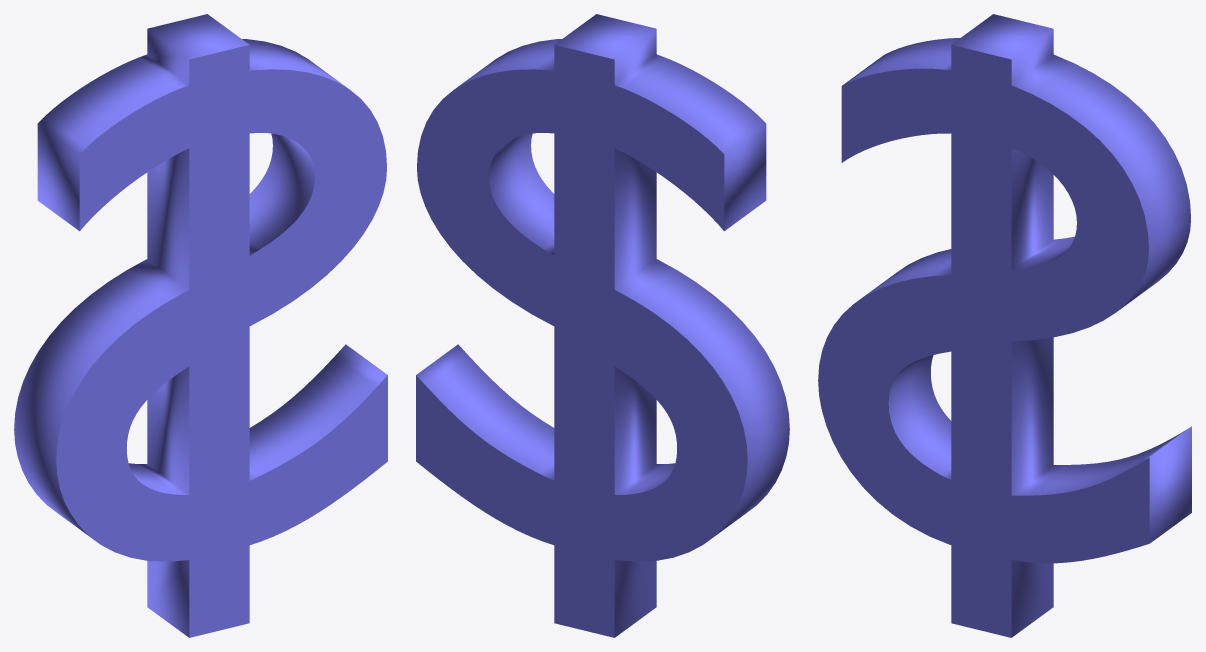
File: dollar.obj
3 views of the same model, side by side, from view 1: azimuth 30°, elevation 25°; view 2: azimuth 150°, elevation 25°; view 3: azimuth 330°, elevation 25° (orthographic).
Visible parts, largest first — view 1: Text_Mesh; view 2: Text_Mesh; view 3: Text_Mesh.
Part boxes in pixels (left/top/right/bottom): Text_Mesh: left=14, top=14, right=387, bottom=637; Text_Mesh: left=416, top=14, right=789, bottom=637; Text_Mesh: left=818, top=14, right=1191, bottom=637.
Size of the model in its own units: 0.3 by 0.5 by 0.066.
